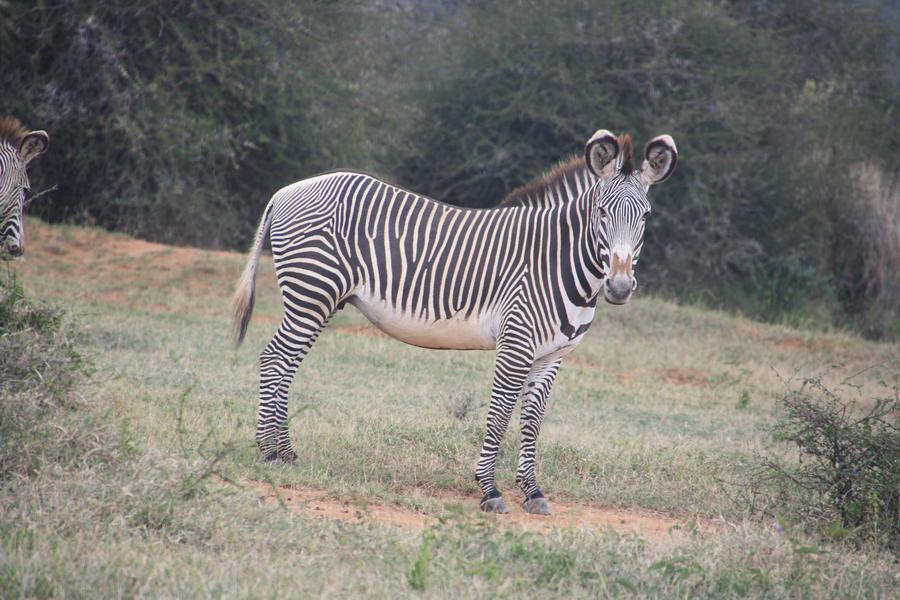zebra_grevys: (275, 156, 556, 352)
